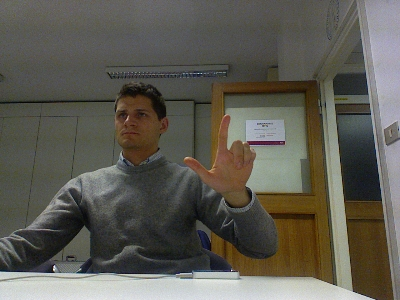枪: (182, 112, 257, 194)
